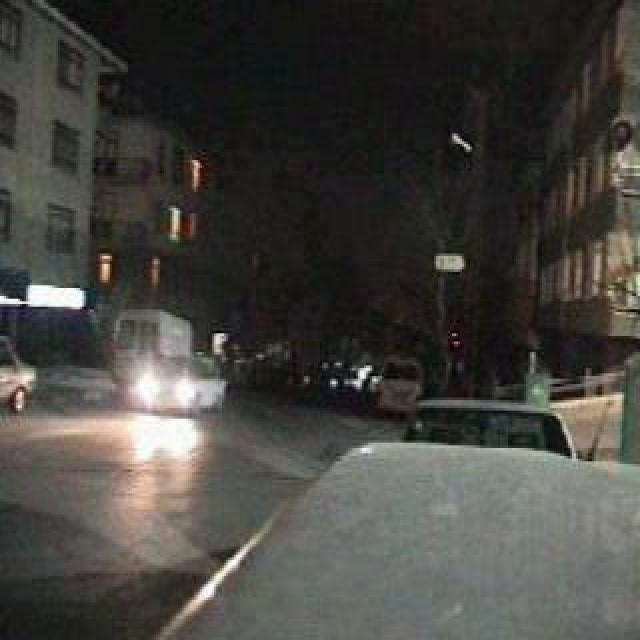other: (138, 356, 200, 441)
